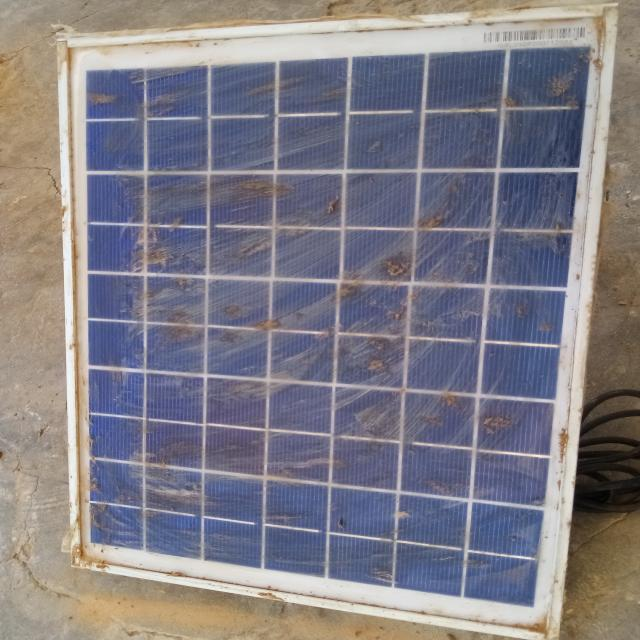faulty: (57, 6, 624, 637)
